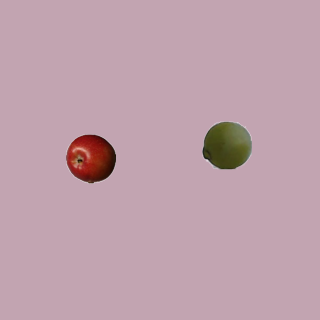Apple Braeburn: (65, 133, 115, 183)
Grape White 4: (201, 119, 251, 169)
